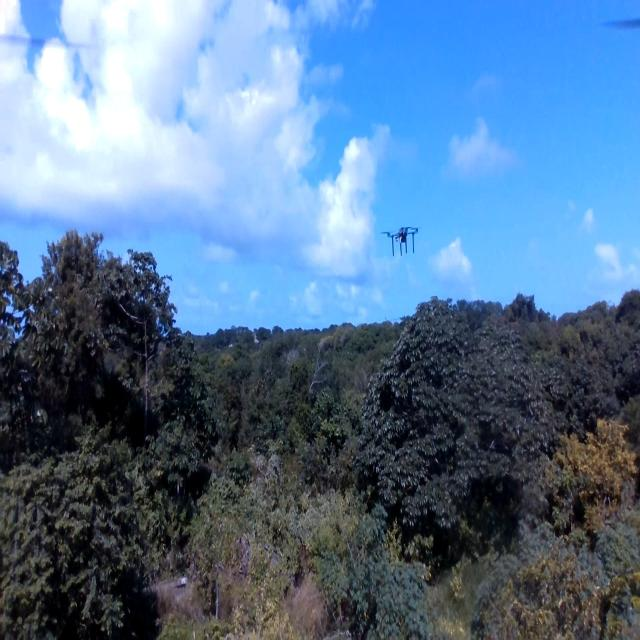-uav-: (375, 203, 436, 278)
